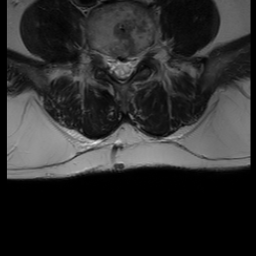CCS_normal: (116, 48, 126, 88)
LFS_normal: (137, 43, 147, 67)
LLS_normal: (127, 49, 137, 80)
RFS_normal: (96, 44, 107, 69)
RLS_normal: (107, 48, 117, 82)
